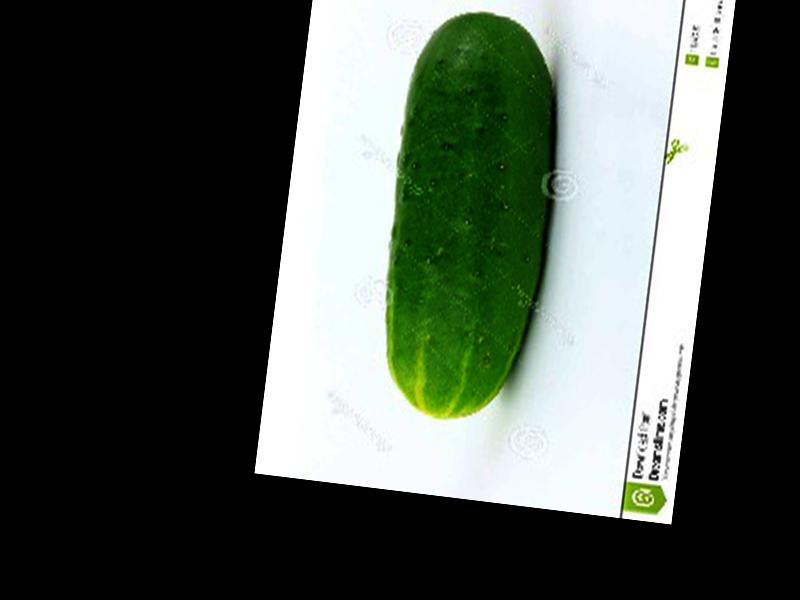Cucumber: (370, 3, 572, 426)
